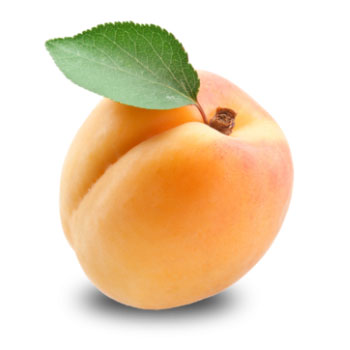Apricot 17cal Avocado Tropical Smoothie missing:Kiwi: (38, 20, 302, 309)
